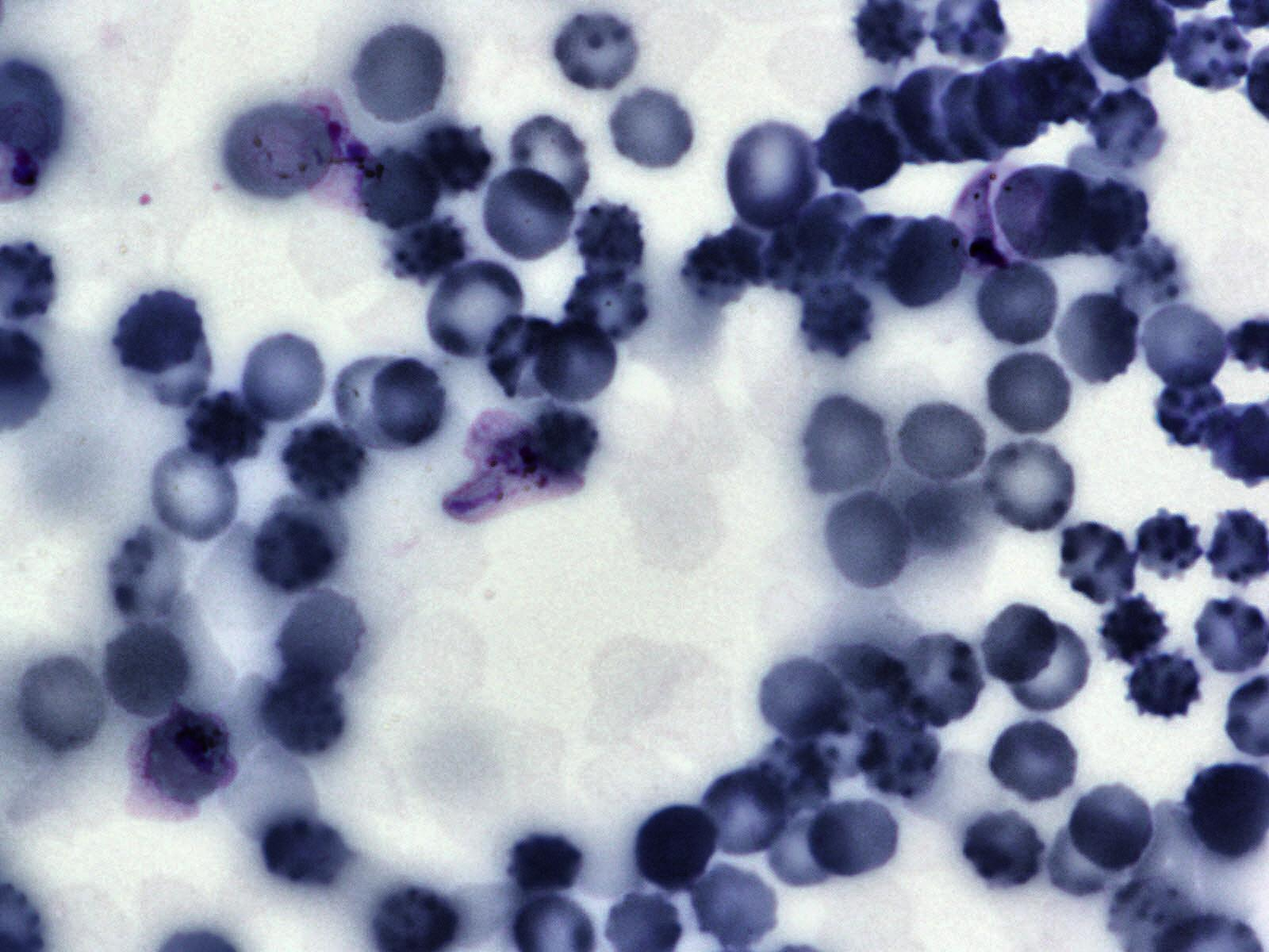Infected: (444, 412, 585, 523), (297, 90, 383, 217), (947, 158, 1042, 271), (140, 708, 237, 805)
Uninfected: (721, 118, 822, 228), (424, 257, 526, 365), (144, 438, 244, 546), (222, 101, 326, 201), (350, 21, 449, 126), (796, 395, 894, 498), (820, 489, 916, 593), (478, 166, 577, 265), (999, 616, 1096, 716), (890, 630, 987, 729), (987, 432, 1079, 536), (504, 109, 592, 217), (99, 619, 193, 720), (259, 656, 348, 762), (696, 765, 794, 861), (1049, 290, 1144, 388), (236, 328, 329, 427), (545, 6, 644, 97), (1139, 297, 1233, 392), (603, 83, 700, 175), (20, 654, 109, 754), (805, 795, 905, 883), (332, 354, 426, 447), (1065, 780, 1157, 875), (112, 286, 207, 378), (531, 314, 623, 409), (891, 398, 987, 489), (753, 654, 849, 744), (999, 165, 1089, 261), (985, 717, 1082, 806), (482, 313, 575, 405), (971, 256, 1062, 350), (818, 102, 907, 198), (882, 214, 968, 313), (247, 506, 340, 597), (277, 592, 366, 685), (983, 349, 1075, 438), (633, 801, 721, 894), (561, 264, 653, 351), (255, 807, 348, 893), (955, 807, 1046, 894), (738, 735, 832, 818), (796, 703, 890, 784), (1054, 520, 1141, 607), (895, 65, 969, 167), (1083, 84, 1169, 171), (1050, 809, 1136, 896), (979, 601, 1064, 689), (972, 54, 1050, 149), (278, 420, 367, 502), (112, 523, 182, 626), (856, 716, 941, 800), (758, 217, 846, 297), (1166, 16, 1256, 94), (372, 354, 447, 447), (846, 212, 927, 297), (1012, 50, 1100, 128), (359, 146, 440, 230), (572, 198, 649, 286), (940, 74, 1015, 162), (726, 197, 801, 285), (683, 227, 761, 308), (792, 194, 870, 275), (1124, 647, 1206, 723), (187, 392, 266, 466), (768, 815, 846, 889), (383, 217, 470, 282), (1152, 376, 1226, 451), (419, 121, 491, 194), (803, 281, 873, 356), (1091, 596, 1169, 662), (502, 830, 584, 892), (1084, 182, 1150, 255), (1139, 508, 1204, 579)
